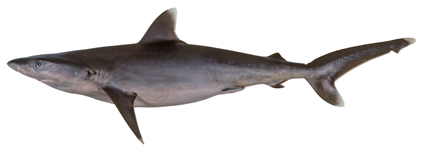fish: (7, 8, 417, 144)
